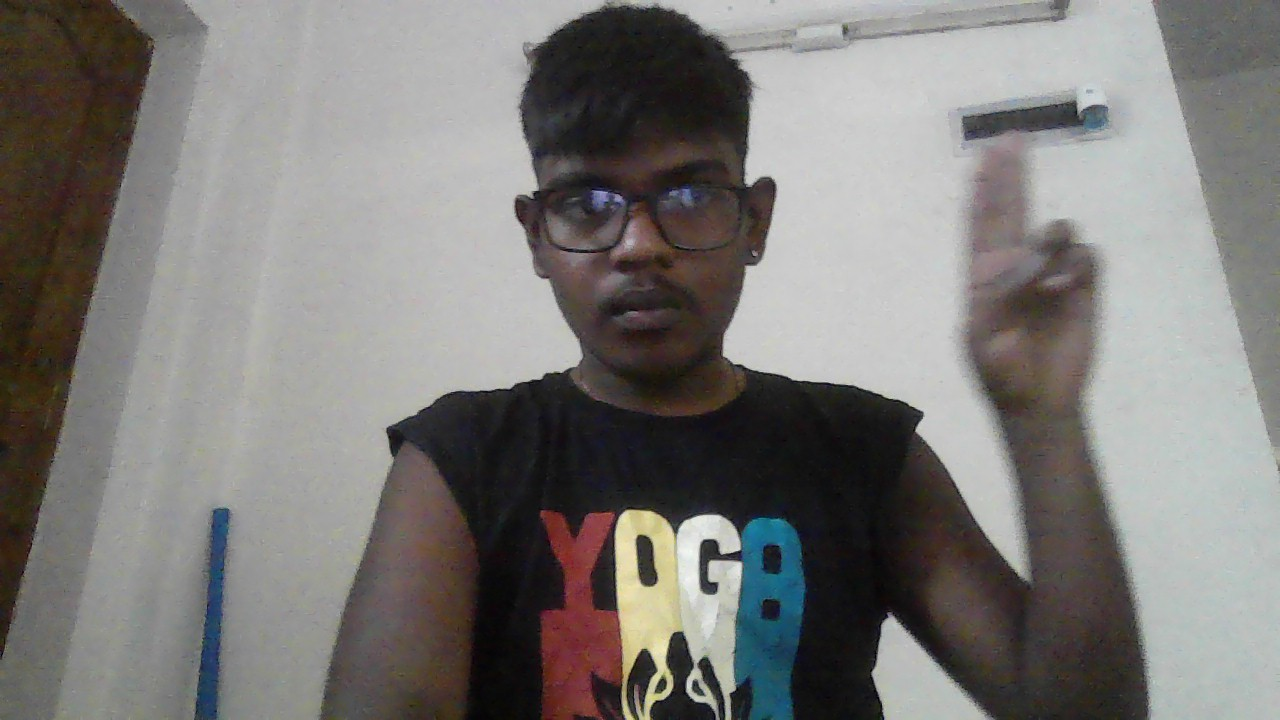U: (965, 130, 1102, 419)
